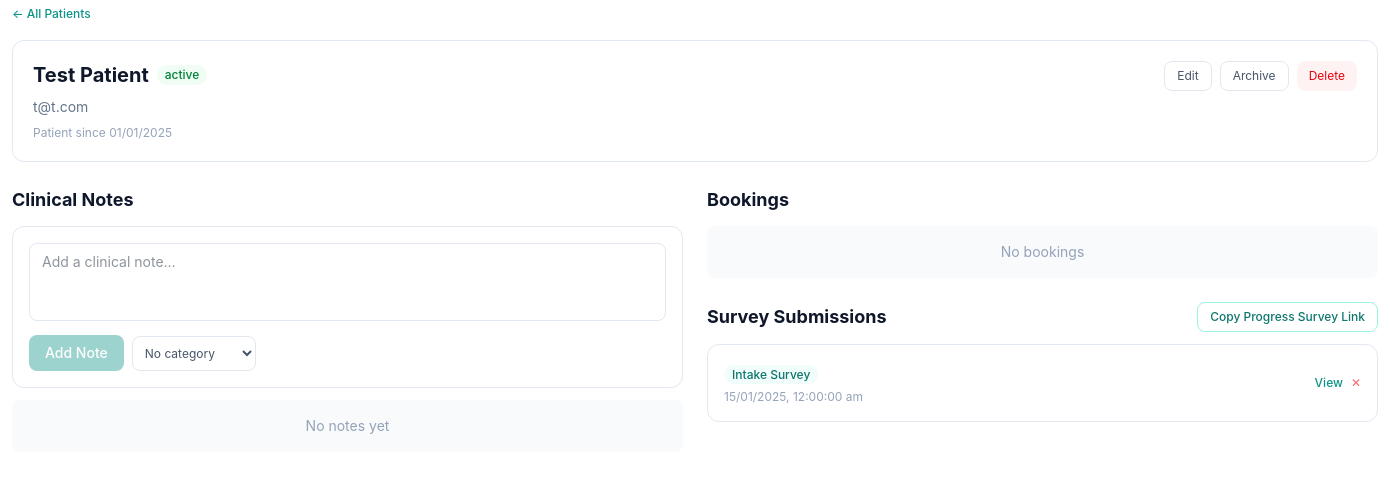
Test: Patient Detail Page › handles malformed survey JSON gracefully when expanded
This screenshot has width=1390, height=484.
Expected: the text "Intake Survey" is shown, [724, 365, 818, 384]
# Expand the survey
Click the button "View" at (1329, 383), box [1315, 375, 1343, 391]
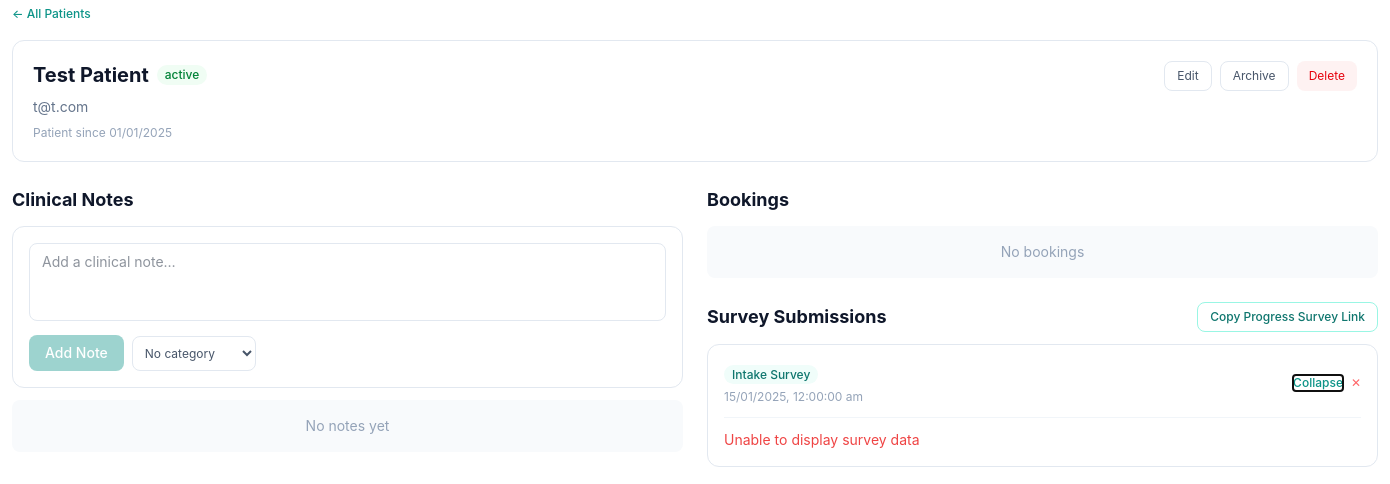
Now the text "Unable to display survey data" is shown, box [724, 431, 920, 448]
